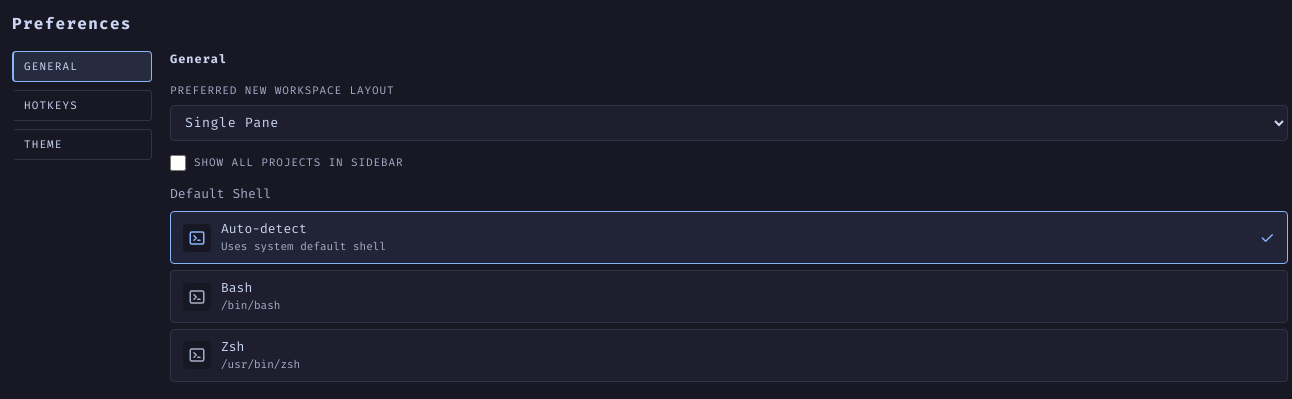
Scenario: PreferencesPanel › shows keybinding editor in hotkeys category
The image size is (1292, 399).
Click the button "Hotkeys": (82, 106) [12,90,152,121]
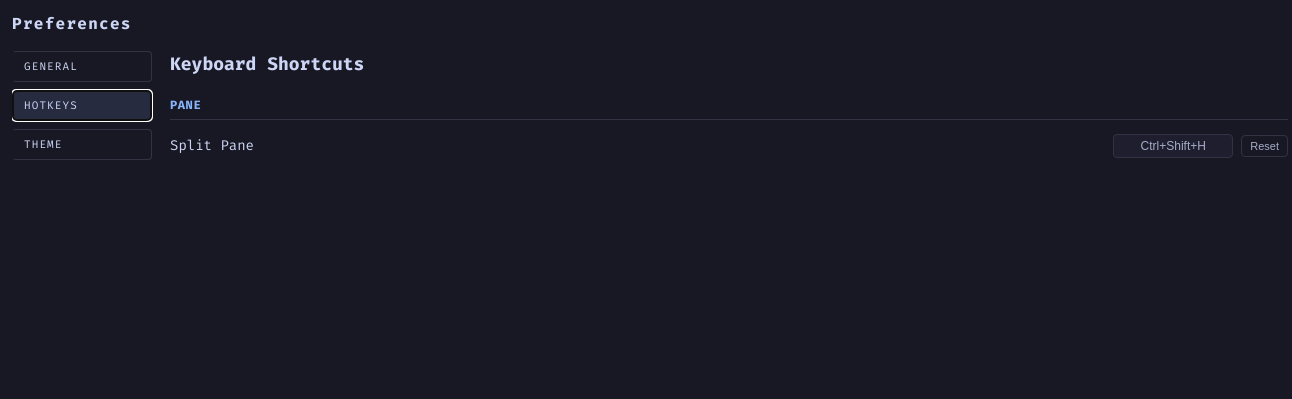
Now the heading "Keyboard Shortcuts" is shown, box [170,53,364,75]
